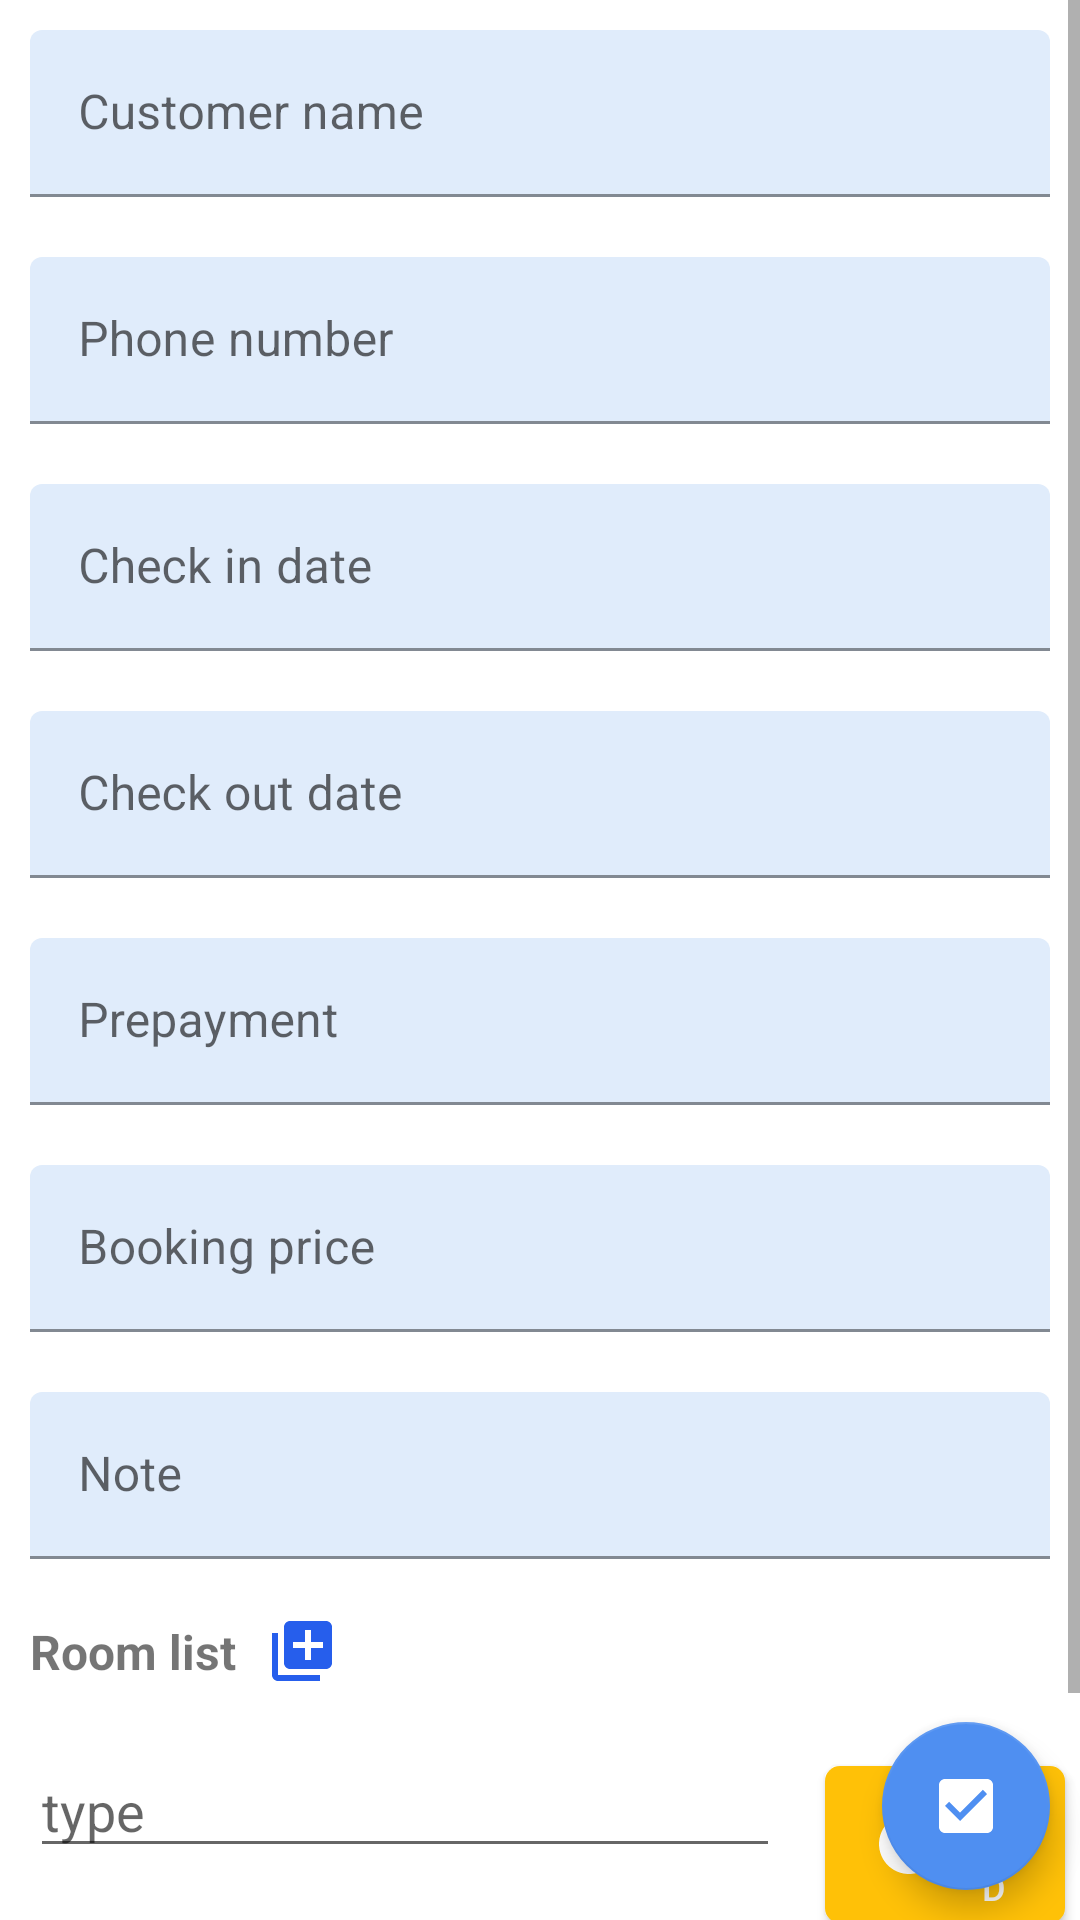

Named icons in this screenshot (1080w x 1920h) and their centers, [x,y]:
add more room: [302,1651]
confirm: [966,1806]
